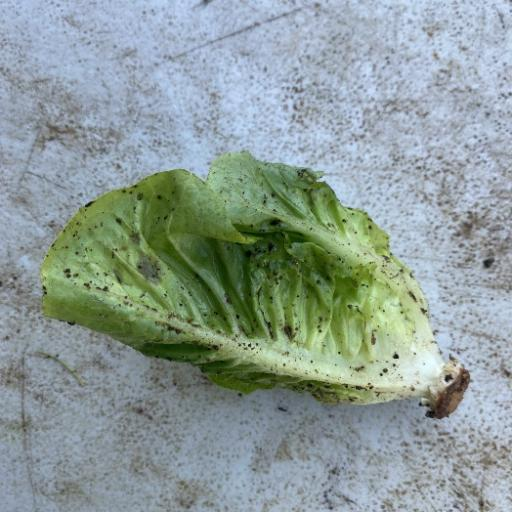Waste: (38, 149, 471, 419)
